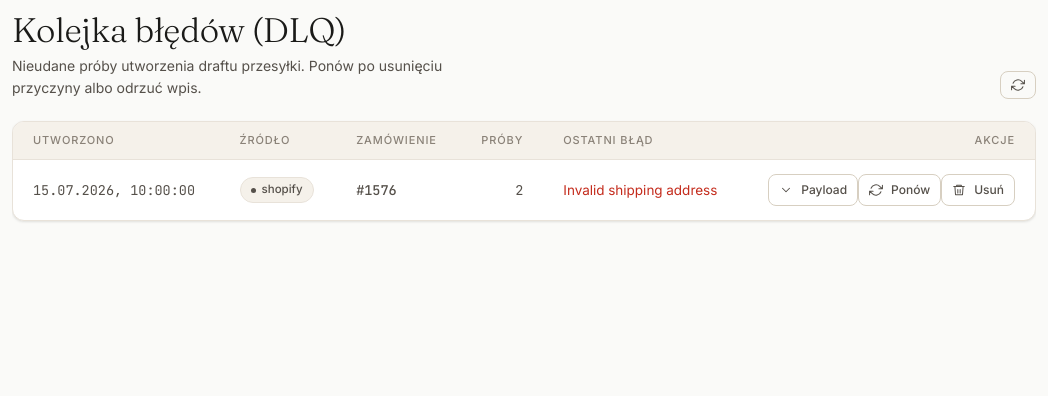
DlqView › displays failed events and expands payload details
This screenshot has width=1048, height=396.
expect the text "#1576" is shown: met, box [336,159,460,220]
expect the text "Invalid shipping address" is shown: met, box [543,159,742,220]
Click the button "Payload" at (813, 190), box [768,174,858,206]
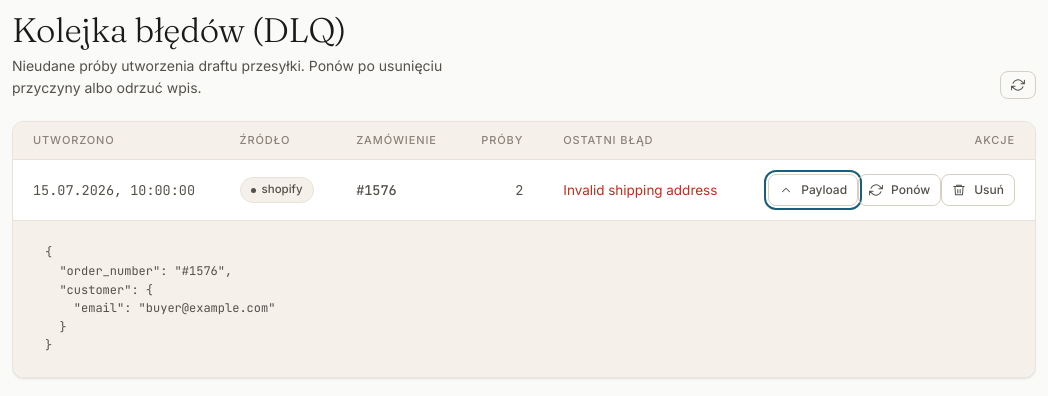
expect the text "buyer@example.com" is shown: met, box [45,244,275,353]
